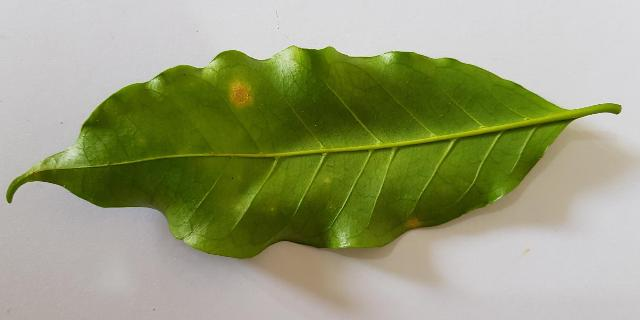miner: (230, 78, 252, 106), (405, 218, 421, 230)
